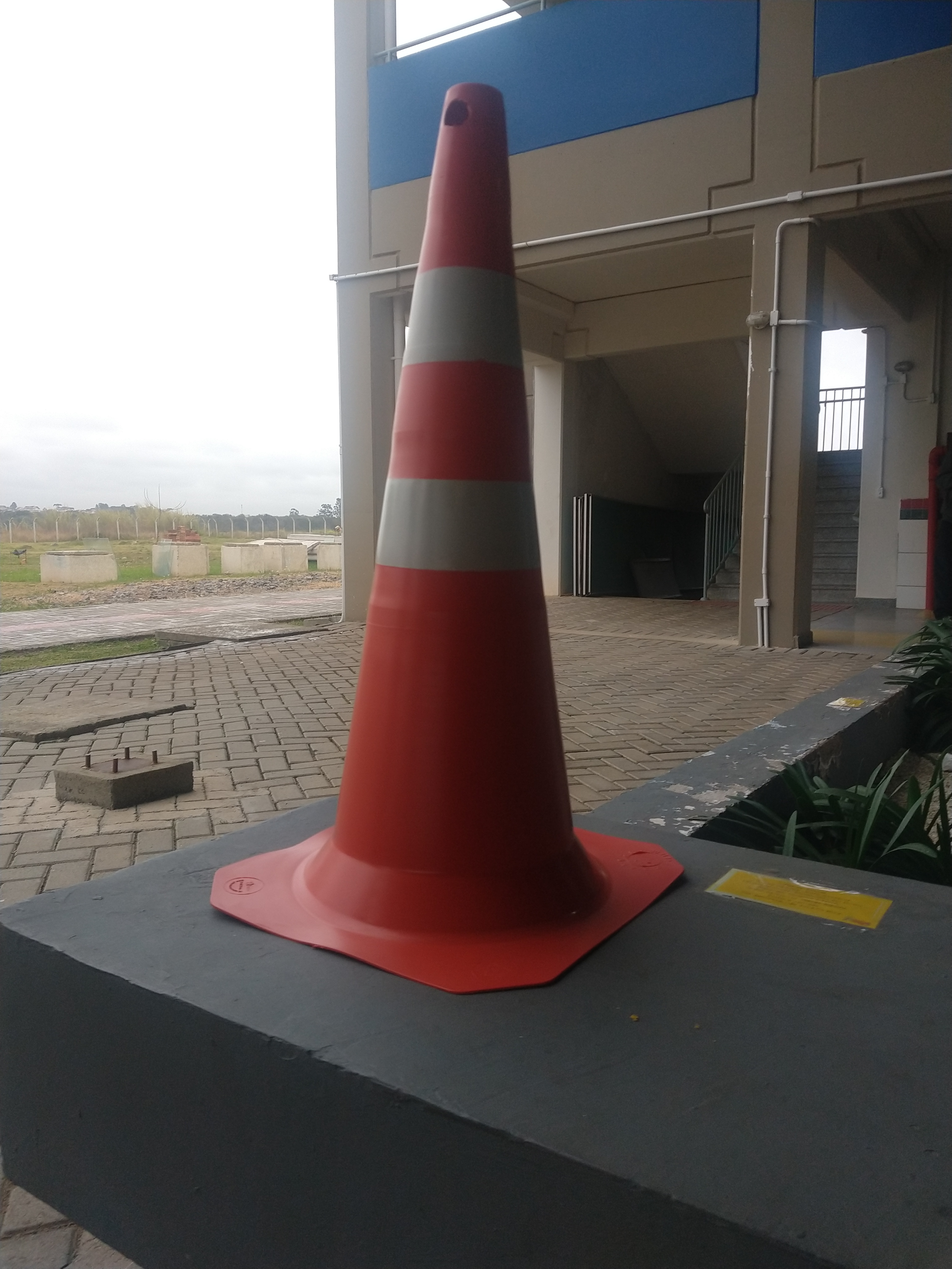traffic_cone: (61, 352, 747, 989)
